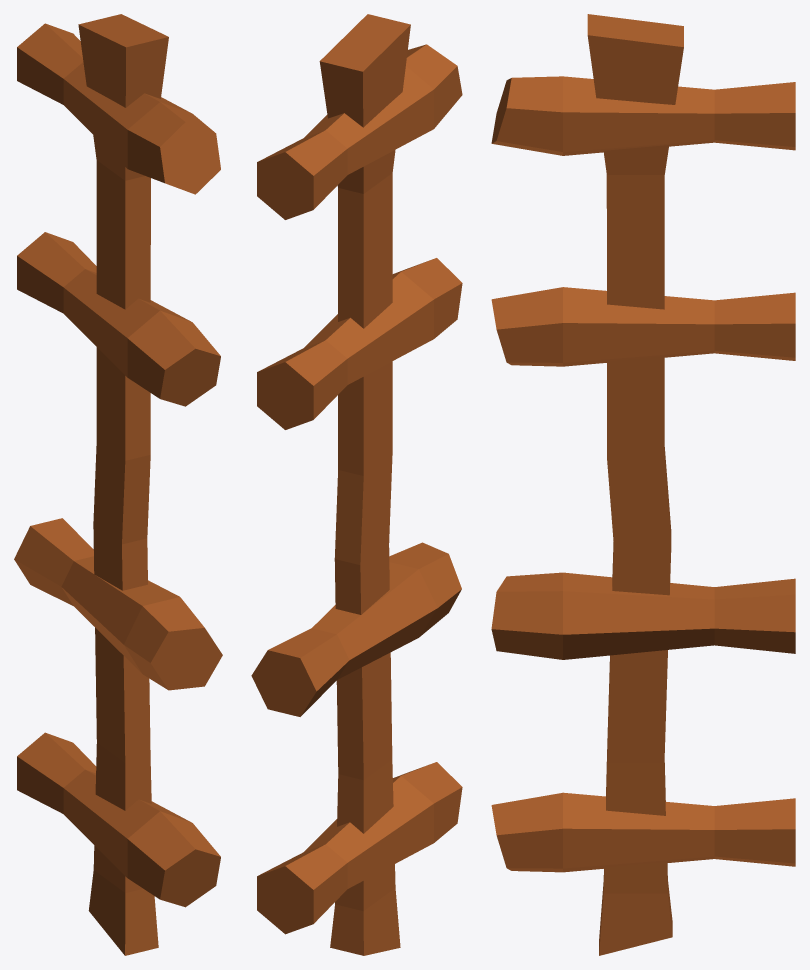
Rendered from fence 4 sticks.glb.
3 views of the same model, side by side, from view 1: azimuth 30°, elevation 25°; view 2: azimuth 150°, elevation 25°; view 3: azimuth 270°, elevation 25° (orthographic).
Parts seen in each view (by area): view 1: Object_4; view 2: Object_4; view 3: Object_4.
Boxes of the visible parts, x1=… form: Object_4: x1=14, y1=14, x2=222, y2=955; Object_4: x1=251, y1=14, x2=462, y2=955; Object_4: x1=491, y1=14, x2=795, y2=955.
Bounding box in the file's own units: 0.5419 × 6.28 × 1.88.
